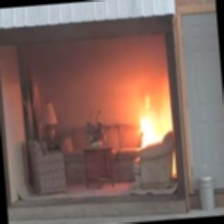fire: (136, 86, 168, 129)
